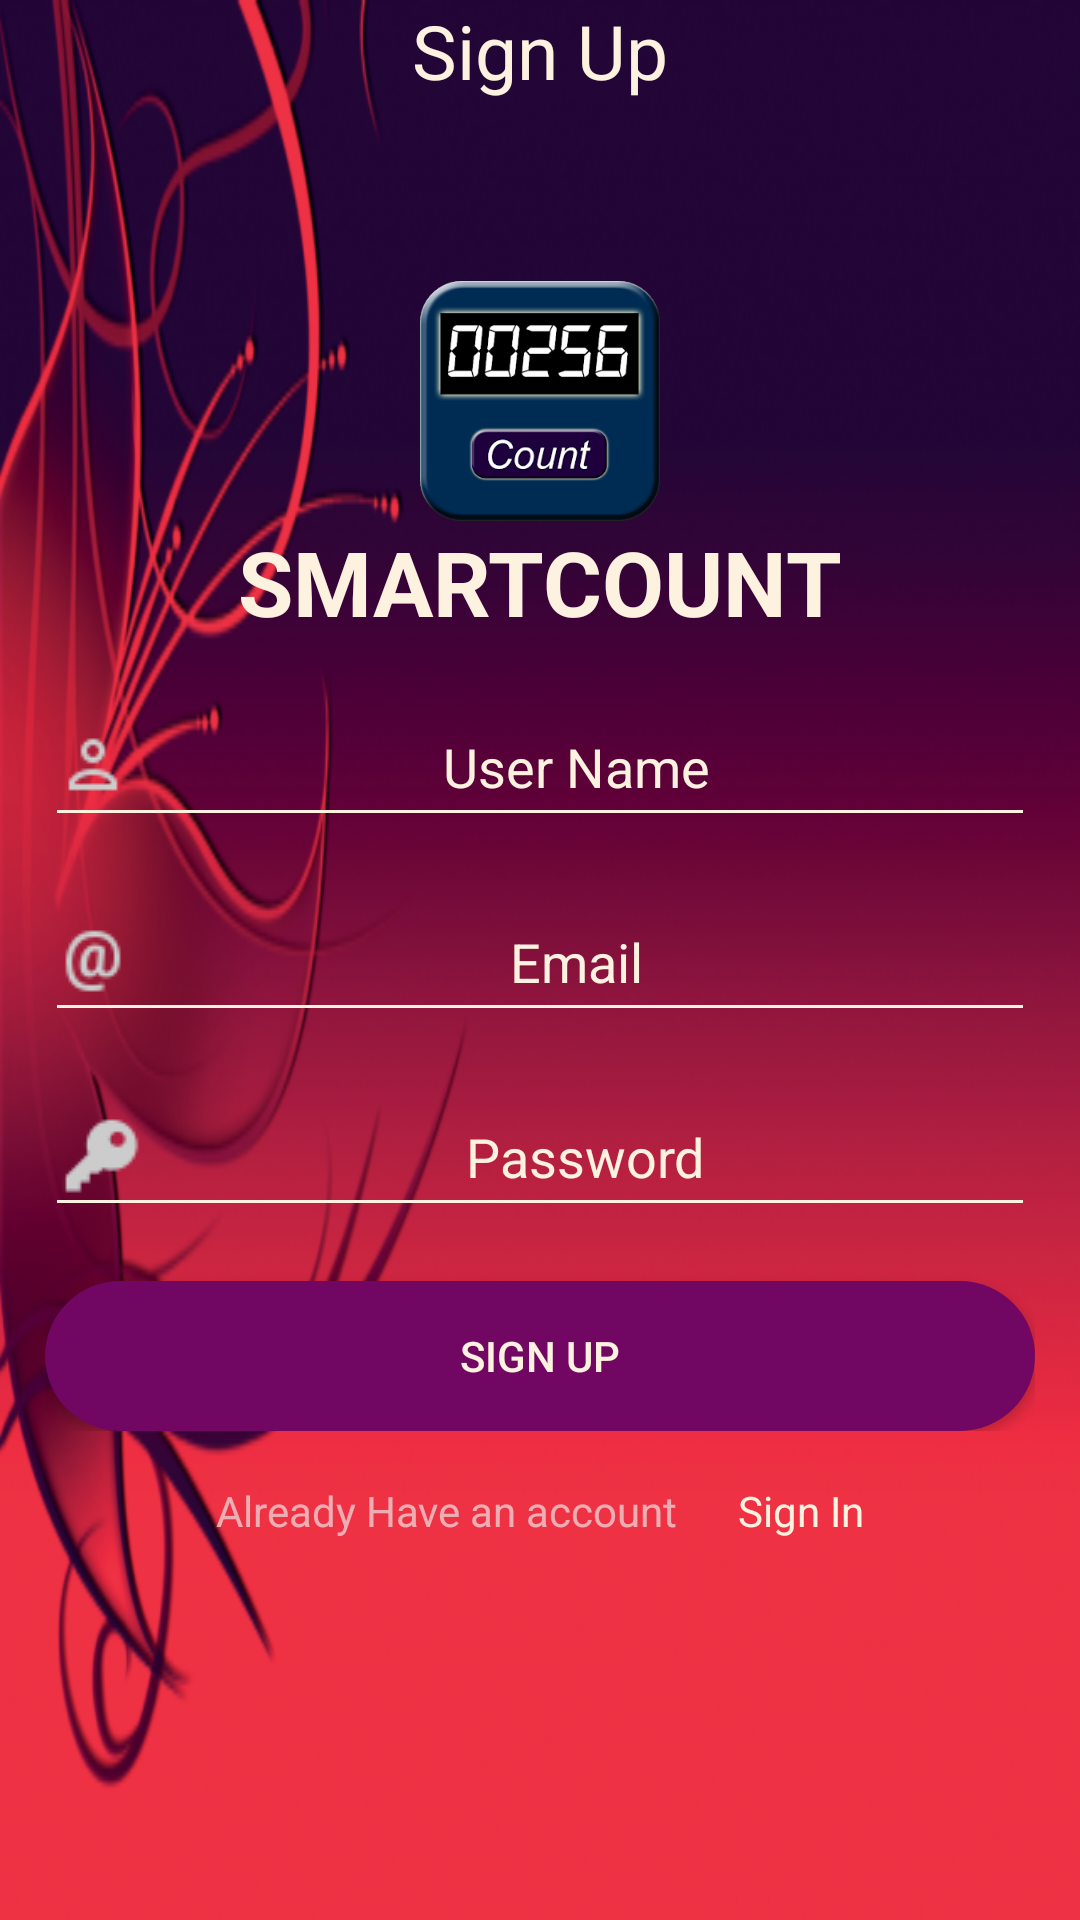

Where to tap for icons on this 1080 × 1920 app screen, as (x,y):
digicount: (540,401)
